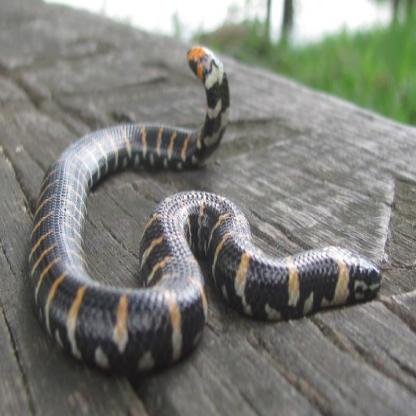snakes: (25, 40, 390, 364)
